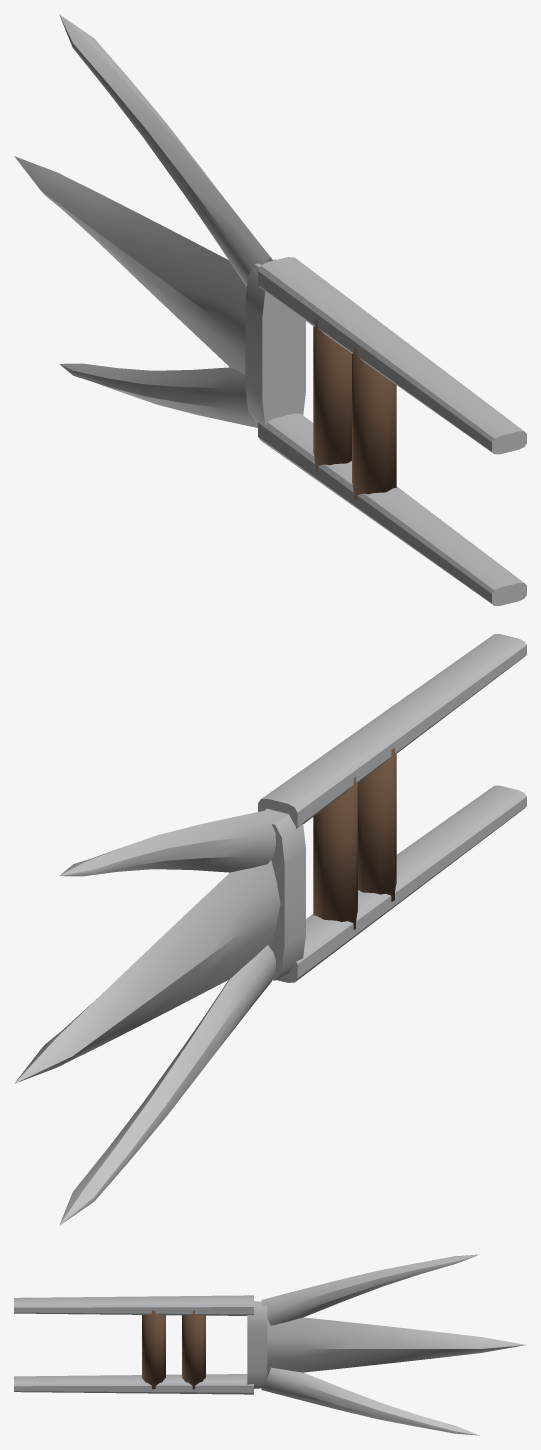
Rendered from tri-bladed-katar.glb.
3 renders of one model, top to bottom at view 1: azimuth 30°, elevation 25°; view 2: azimuth 150°, elevation 25°; view 3: azimuth 270°, elevation 25°, orthographic. The views are drawn at different scales.
Parts seen in each view (by area): view 1: tri-bladed-katar; view 2: tri-bladed-katar; view 3: tri-bladed-katar.
Part boxes in pixels (box(x1,y1,x2,y2)): tri-bladed-katar: box(14, 14, 526, 605); tri-bladed-katar: box(14, 634, 526, 1225); tri-bladed-katar: box(14, 1254, 525, 1435).
Bounding box in the file's own units: 0.0393 × 0.3 × 0.77.
